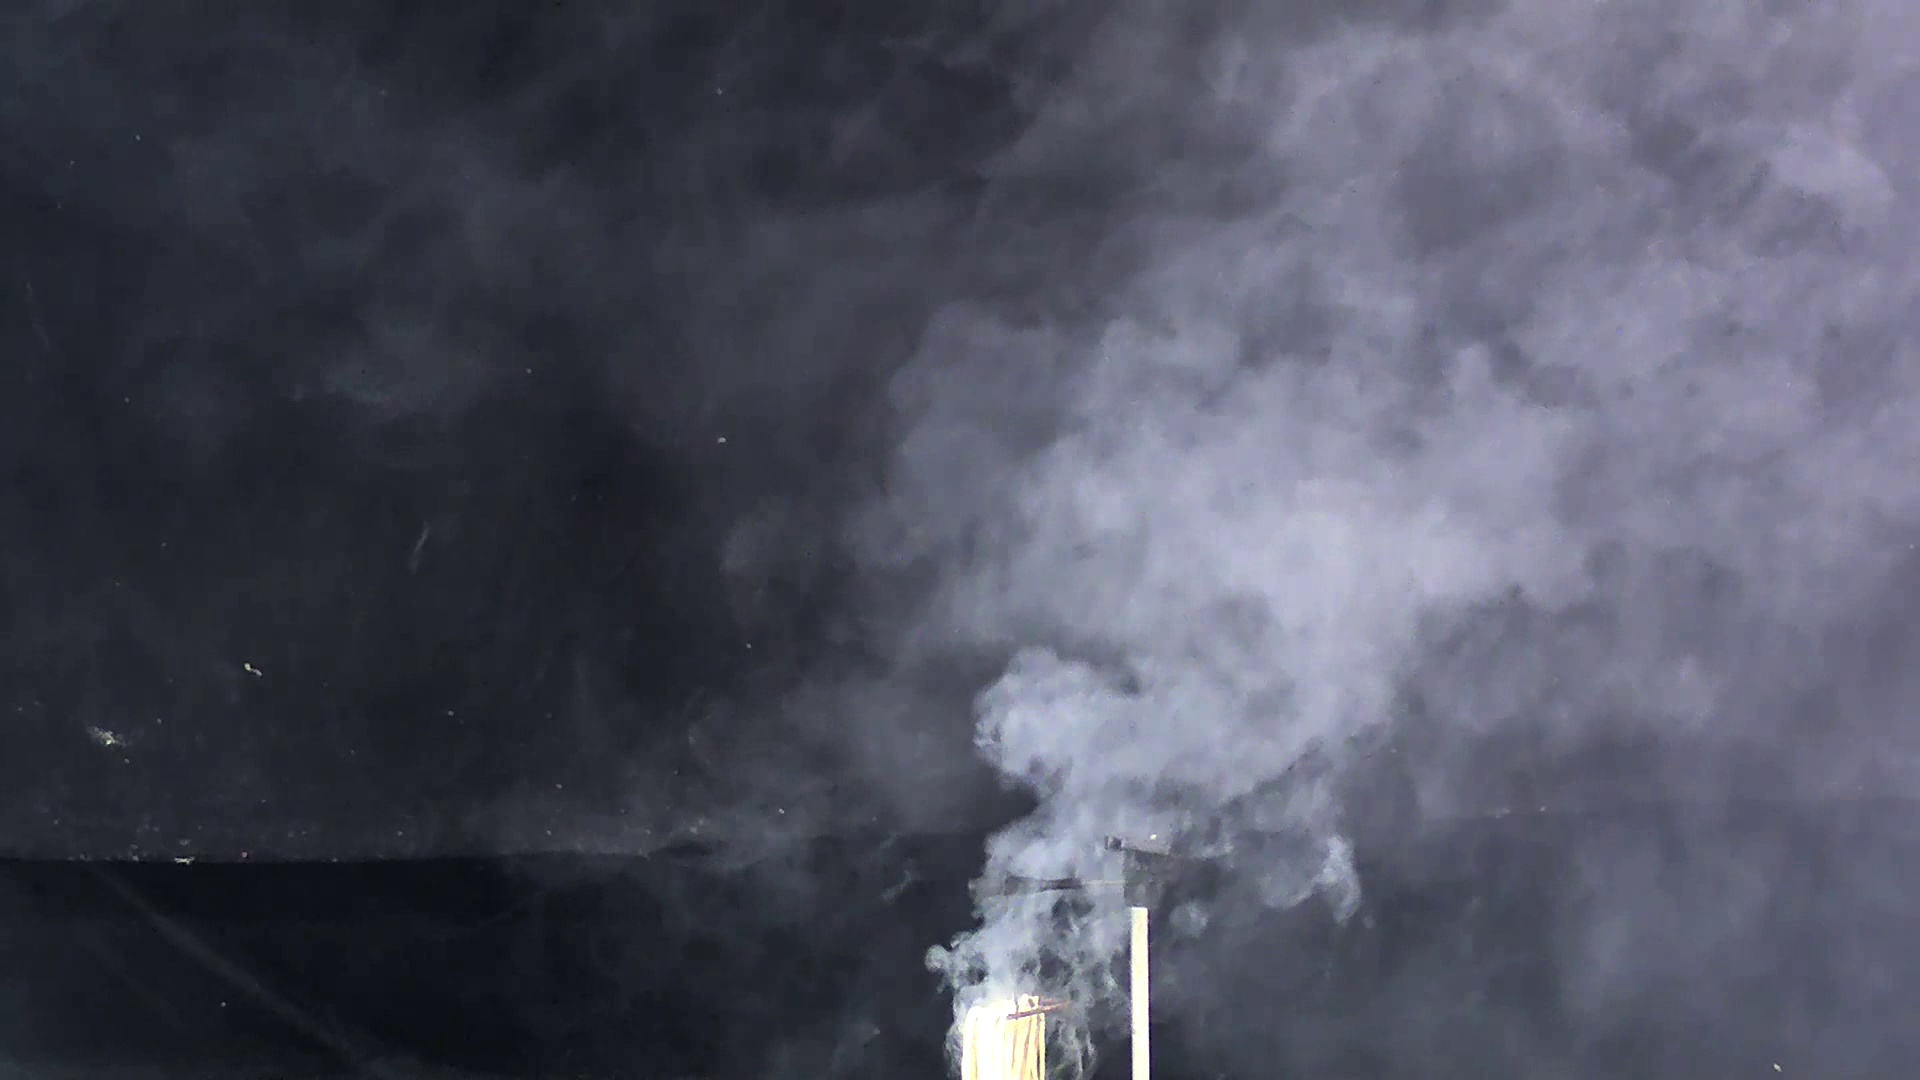smoke: (856, 266, 1648, 1030)
